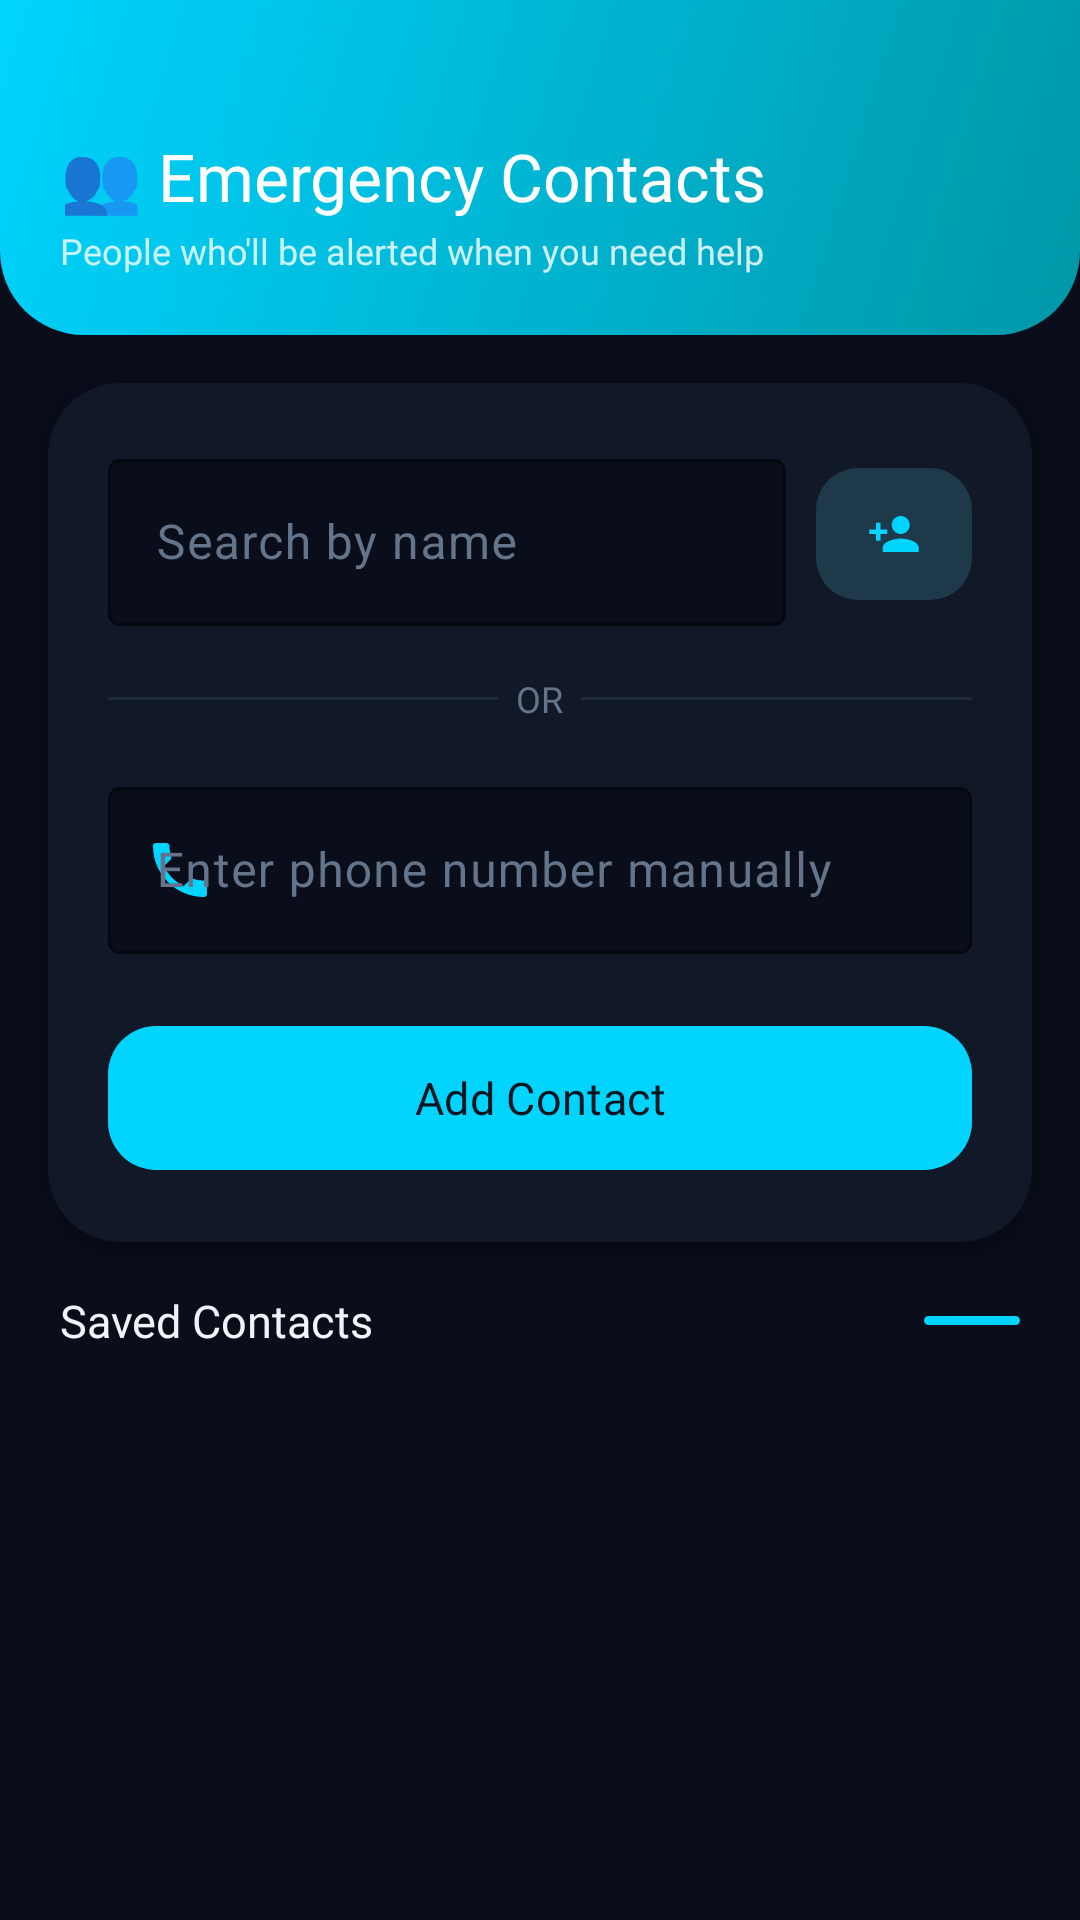

Named icons in this screenshot (1080x1920) and their bounding boxes, (x1, y1, x2, y2):
person add: (816, 468, 972, 600)
